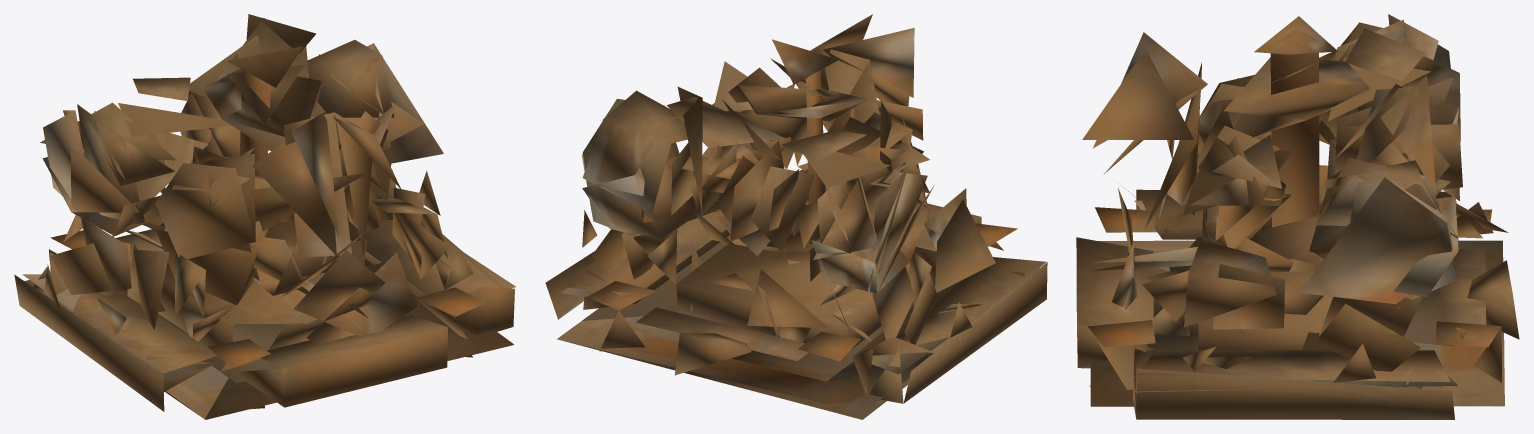
File: salvage-gears.lod1.glb
3 views of the same model, side by side, from view 1: azimuth 30°, elevation 25°; view 2: azimuth 150°, elevation 25°; view 3: azimuth 270°, elevation 25° (orthographic). The views are drawn at different scales.
Visible parts, largest first — view 1: salvage-gears_lod1; view 2: salvage-gears_lod1; view 3: salvage-gears_lod1.
Boxes of the visible parts, x1=… form: salvage-gears_lod1: x1=14, y1=14, x2=515, y2=419; salvage-gears_lod1: x1=545, y1=14, x2=1047, y2=419; salvage-gears_lod1: x1=1076, y1=14, x2=1519, y2=419.
Bounding box in the file's own units: 0.8666 × 0.5909 × 0.7959.
Materials: 1 (1 with a texture image).
